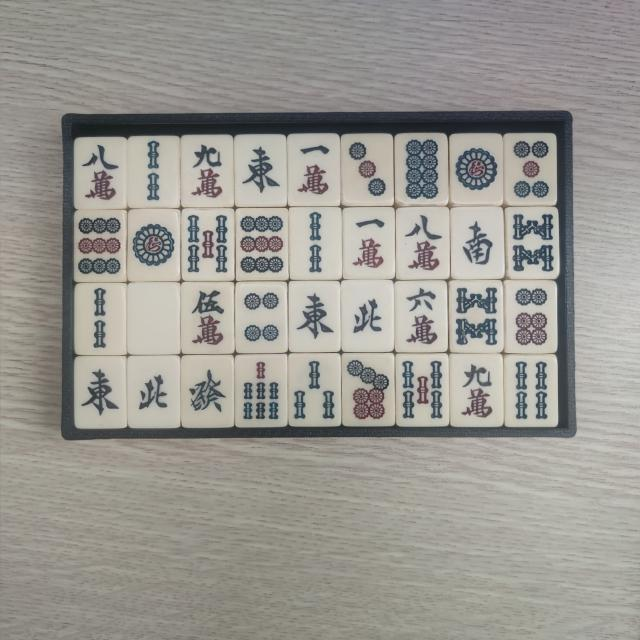hdg: (187, 361, 230, 424)
hdw: (132, 288, 176, 350)
hwe: (294, 286, 338, 350), (238, 140, 282, 203), (79, 362, 123, 424)
hwn: (346, 286, 389, 347), (134, 359, 174, 421)
hws: (456, 213, 498, 275)
sb2: (294, 210, 338, 276), (132, 138, 176, 204), (78, 287, 122, 353)
sb3: (291, 360, 337, 424)
sb4: (511, 359, 553, 424)
sb5: (186, 213, 232, 278), (402, 357, 447, 422)
sb7: (241, 360, 284, 424)
sb8: (453, 284, 499, 350), (510, 212, 555, 276)
sc1: (346, 212, 389, 274), (294, 137, 336, 200)
sc5: (188, 286, 230, 350)
sc6: (400, 285, 442, 349)
sc8: (78, 140, 124, 206), (400, 212, 446, 276)
sc9: (187, 140, 230, 204), (454, 360, 498, 422)
sd1: (130, 214, 177, 280), (453, 139, 499, 202)
sd3: (346, 136, 390, 201)
sd4: (240, 287, 283, 350)
sd5: (509, 138, 554, 202)
sd6: (511, 284, 554, 350)
sd7: (346, 358, 390, 422)
sd8: (399, 137, 444, 200)
sd9: (238, 213, 288, 280), (76, 213, 123, 281)
